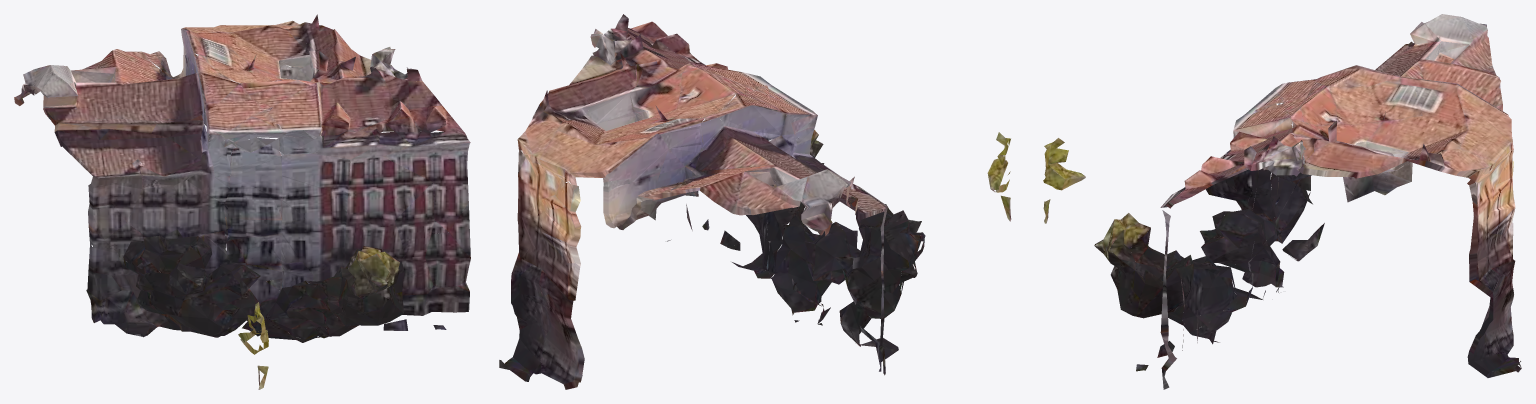
The picture shows the model from 3 angles, left to right: view 1: azimuth 30°, elevation 25°; view 2: azimuth 150°, elevation 25°; view 3: azimuth 270°, elevation 25°; orthographic projection. The views are drawn at different scales.
Parts seen in each view (by area): view 1: Mesh_0; view 2: Mesh_0; view 3: Mesh_0.
Part boxes in pixels (<box>): Mesh_0: <box>14,14,470,389</box>; Mesh_0: <box>499,14,1011,389</box>; Mesh_0: <box>1043,14,1521,389</box>.
Bounding box in the file's own units: 32.73 × 23.19 × 41.42.
2 materials, 2 textured.
